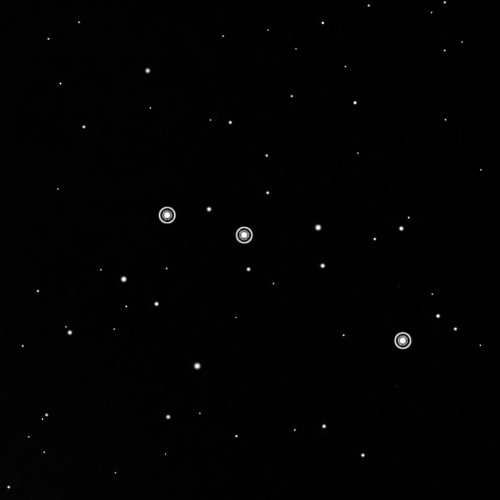vulpecula: (153, 199, 416, 355)
